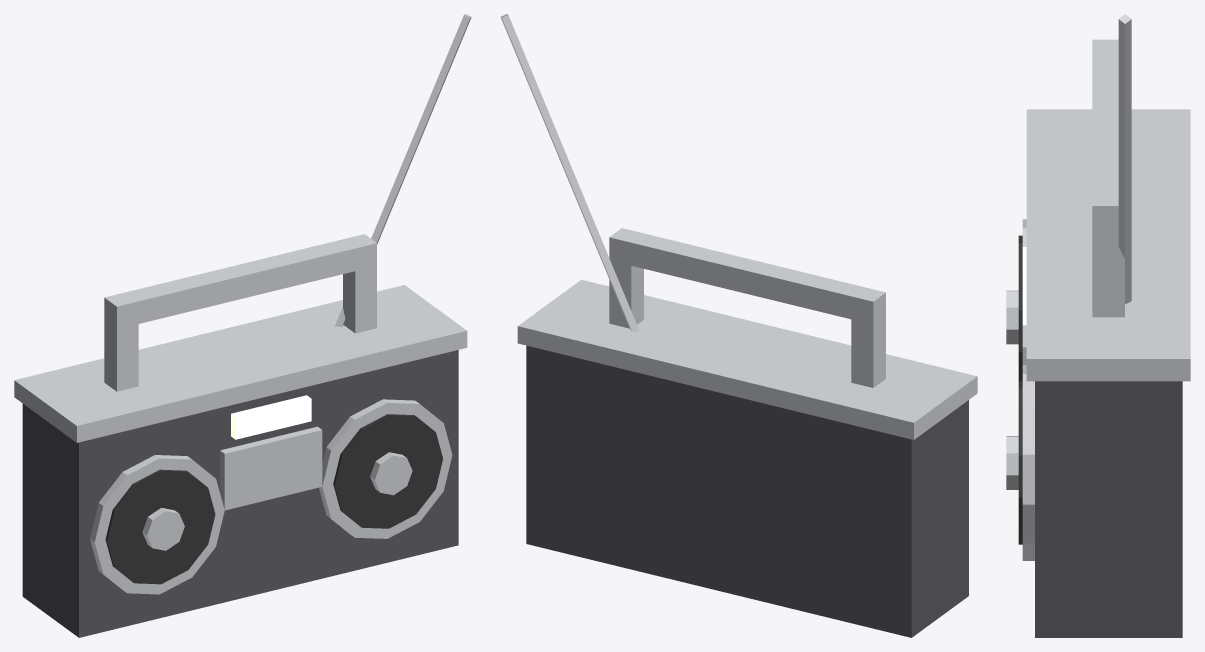
The model's file is boombox.glb.
3 views of the same model, side by side, from view 1: azimuth 30°, elevation 25°; view 2: azimuth 150°, elevation 25°; view 3: azimuth 270°, elevation 25° (orthographic). The views are drawn at different scales.
Parts seen in each view (by area): view 1: boombox; view 2: boombox; view 3: boombox.
Part boxes in pixels (x1,y1,x2,y2): boombox: (14,14,471,637); boombox: (500,14,977,637); boombox: (1006,14,1190,637).
Size of the model in its own units: 0.7977 by 0.8736 by 0.225.
